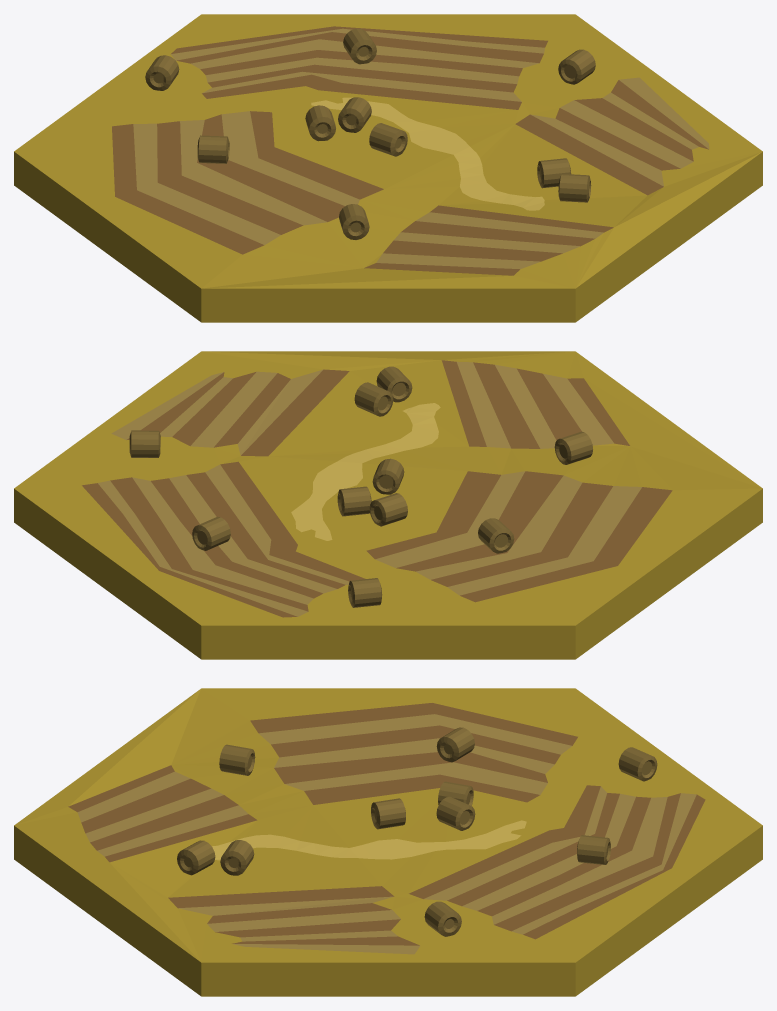
File: grain.dae
3 renders of one model, top to bottom at view 1: azimuth 30°, elevation 25°; view 2: azimuth 150°, elevation 25°; view 3: azimuth 270°, elevation 25°, orthographic.
Visible parts, largest first — view 1: Cylinder, Cylinder_001, Cylinder_006, Cylinder_007, Cylinder_008, Cylinder_009, Cylinder_005, Cylinder_010, Cylinder_002, Cylinder_003, Cylinder_004; view 2: Cylinder, Cylinder_002, Cylinder_003, Cylinder_004, Cylinder_009, Cylinder_010, Cylinder_008, Cylinder_007, Cylinder_001, Cylinder_006, Cylinder_005; view 3: Cylinder, Cylinder_007, Cylinder_008, Cylinder_005, Cylinder_010, Cylinder_006, Cylinder_003, Cylinder_001, Cylinder_009, Cylinder_004, Cylinder_002.
Part boxes in pixels (x1=…): Cylinder: x1=14, y1=14, x2=762, y2=322; Cylinder_001: x1=369, y1=123, x2=407, y2=156; Cylinder_006: x1=558, y1=49, x2=595, y2=84; Cylinder_007: x1=338, y1=97, x2=371, y2=132; Cylinder_008: x1=145, y1=55, x2=179, y2=90; Cylinder_009: x1=343, y1=28, x2=376, y2=64; Cylinder_005: x1=558, y1=174, x2=591, y2=202; Cylinder_010: x1=197, y1=135, x2=229, y2=163; Cylinder_002: x1=305, y1=105, x2=335, y2=141; Cylinder_003: x1=339, y1=204, x2=369, y2=239; Cylinder_004: x1=537, y1=158, x2=571, y2=188; Cylinder: x1=14, y1=351, x2=762, y2=659; Cylinder_002: x1=369, y1=493, x2=407, y2=526; Cylinder_003: x1=554, y1=431, x2=592, y2=464; Cylinder_004: x1=354, y1=382, x2=393, y2=416; Cylinder_009: x1=192, y1=516, x2=230, y2=550; Cylinder_010: x1=478, y1=518, x2=514, y2=553; Cylinder_008: x1=348, y1=578, x2=382, y2=607; Cylinder_007: x1=337, y1=486, x2=371, y2=516; Cylinder_001: x1=372, y1=458, x2=404, y2=494; Cylinder_006: x1=129, y1=430, x2=160, y2=457; Cylinder_005: x1=376, y1=366, x2=412, y2=402; Cylinder: x1=14, y1=688, x2=762, y2=996; Cylinder_007: x1=436, y1=796, x2=475, y2=830; Cylinder_008: x1=618, y1=747, x2=657, y2=781; Cylinder_005: x1=177, y1=840, x2=215, y2=875; Cylinder_010: x1=436, y1=727, x2=474, y2=762; Cylinder_006: x1=424, y1=901, x2=461, y2=936; Cylinder_003: x1=219, y1=744, x2=255, y2=775; Cylinder_001: x1=371, y1=798, x2=405, y2=829; Cylinder_009: x1=577, y1=835, x2=610, y2=864; Cylinder_004: x1=220, y1=840, x2=254, y2=875; Cylinder_002: x1=438, y1=781, x2=473, y2=805.
Size of the model in its own units: 1.73 by 2 by 0.171.
